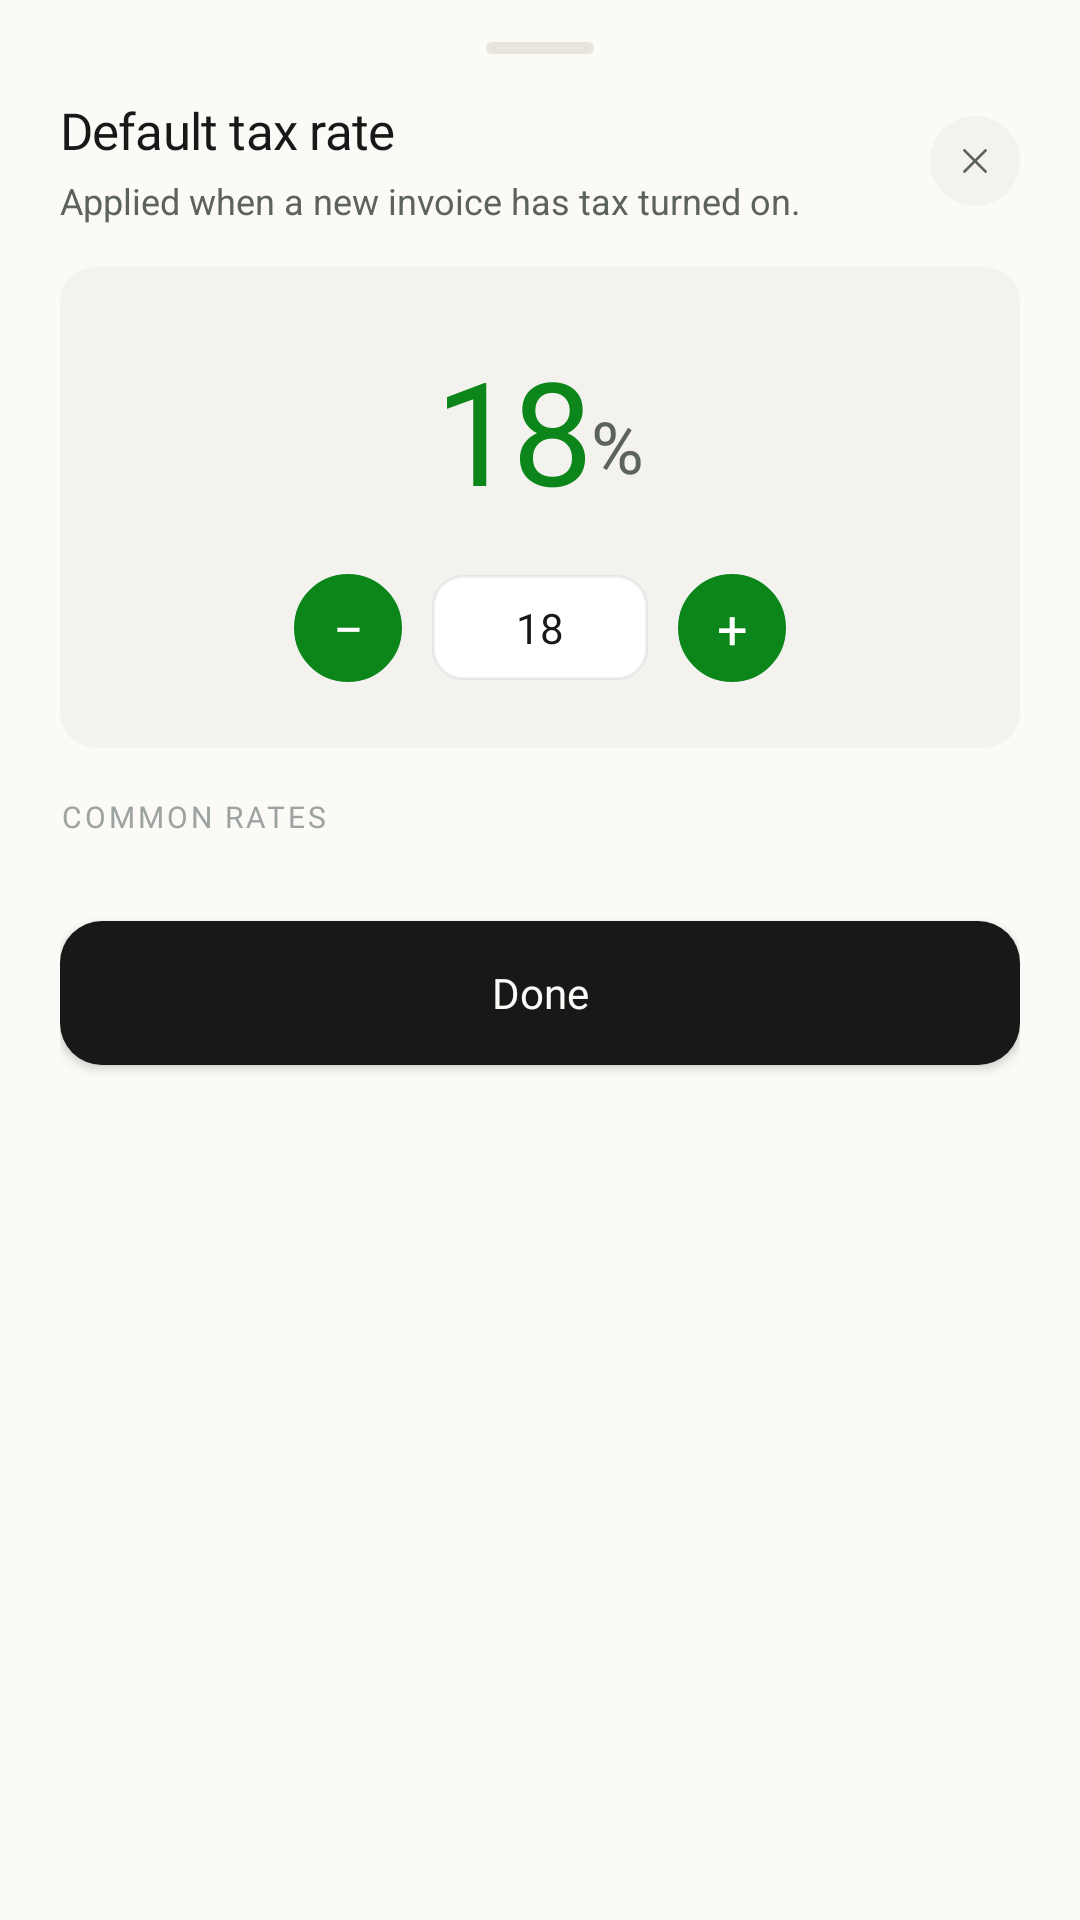

Icons on this 1080px×1920px Android screen, each with its box as Rect(x1, y1, x2, y2):
close: Rect(930, 116, 1020, 206)
